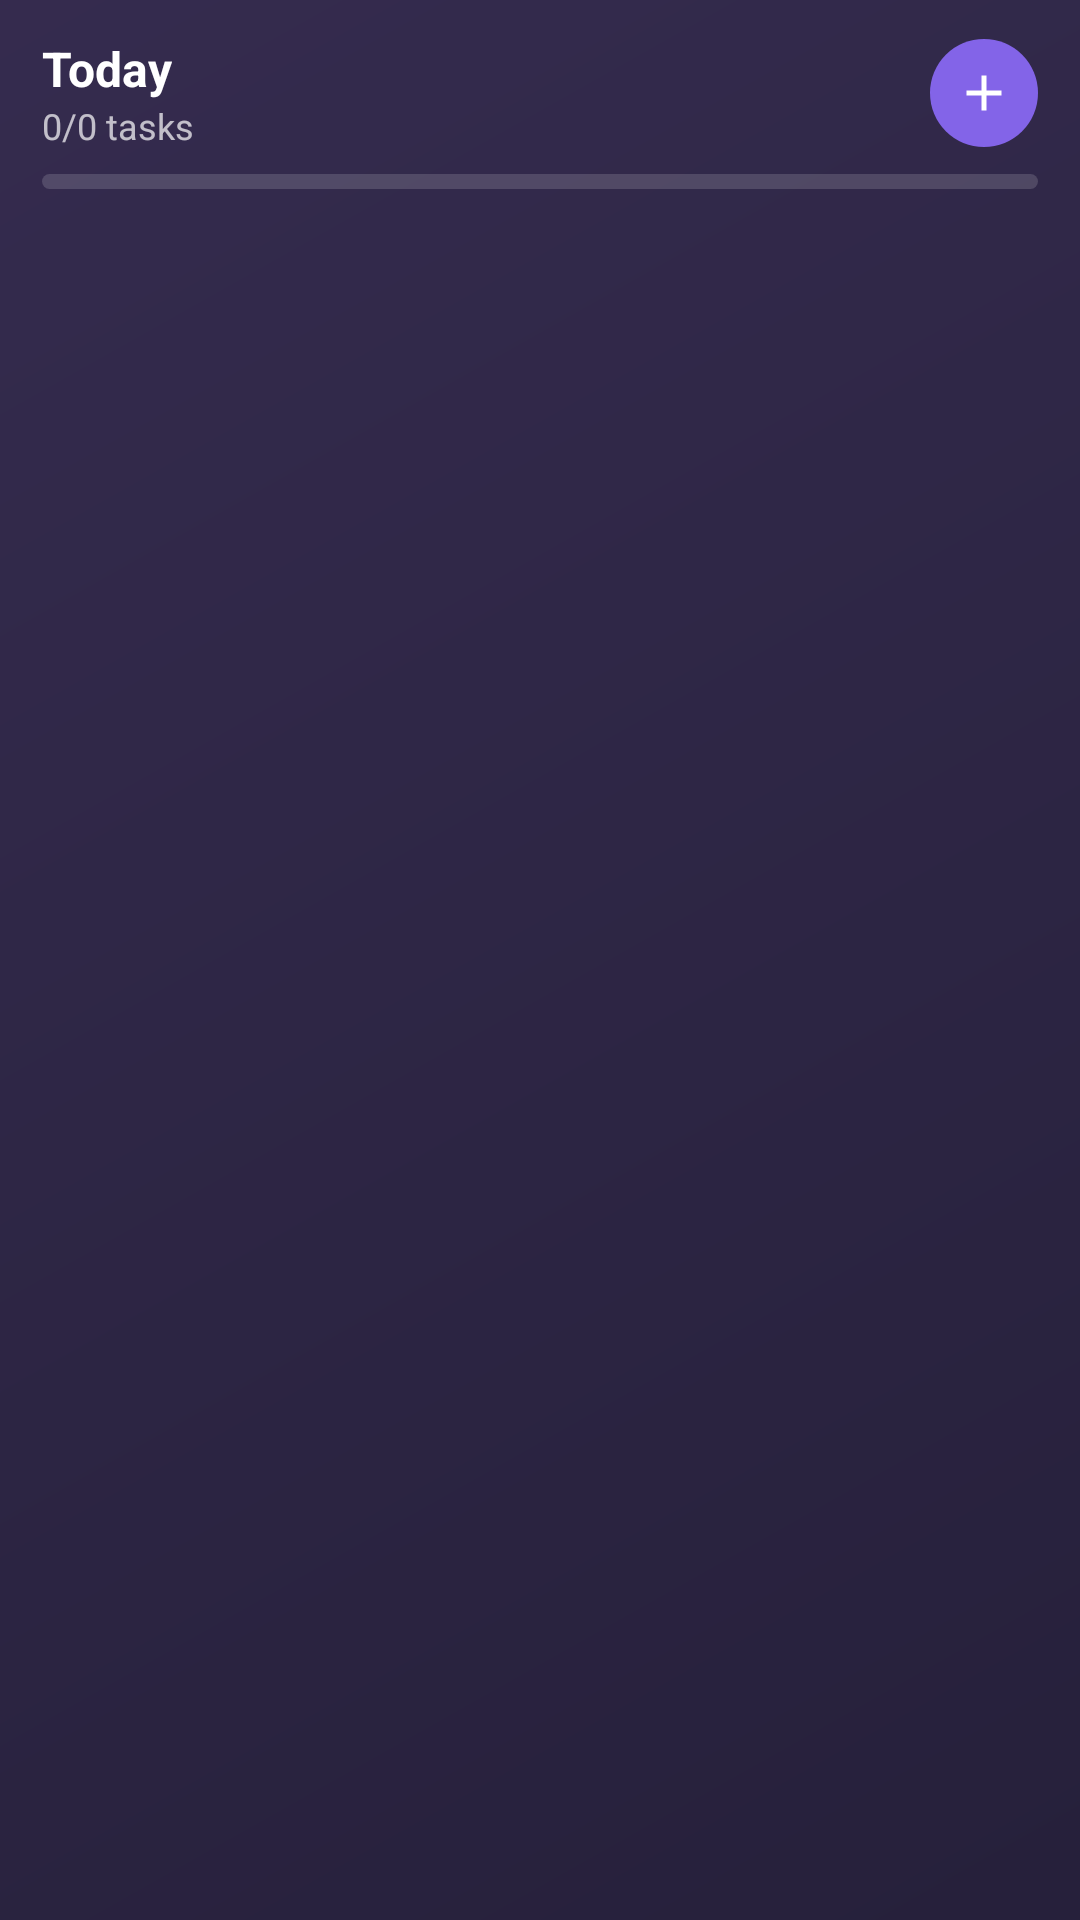

Where icons sit on this 1080px x 1920px app screen, as (x1, y1, x2, y2):
New task: (930, 39, 1038, 147)
